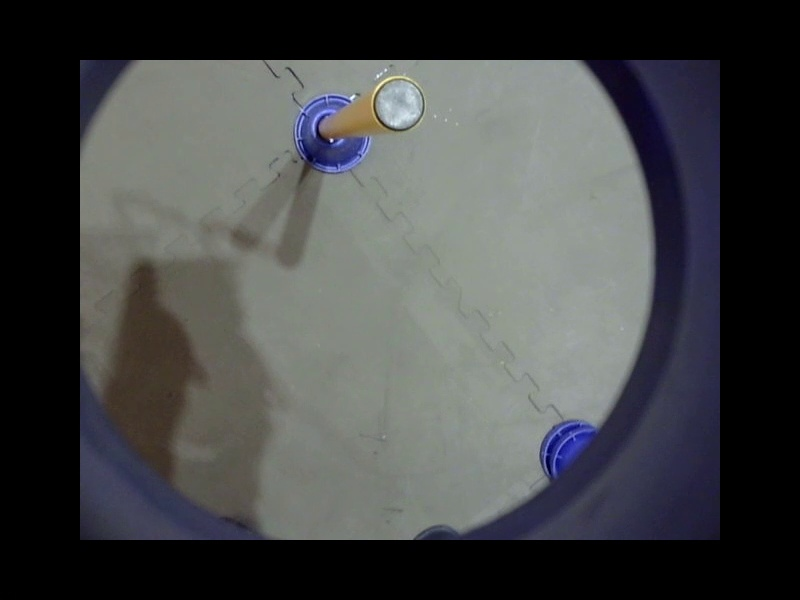tip: (366, 73, 434, 132)
